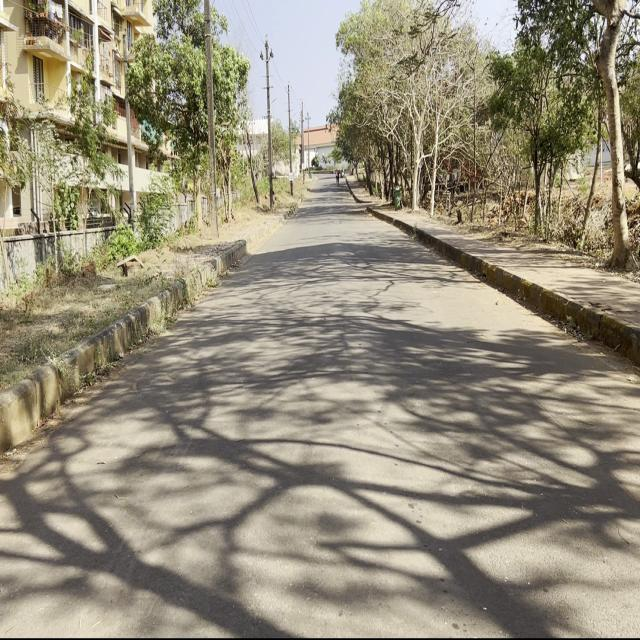Road: (4, 177, 637, 631)
